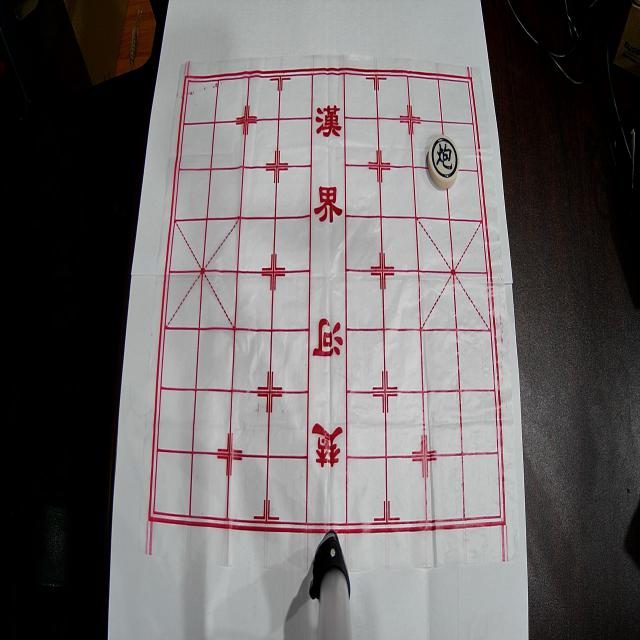black-cannon: (428, 135, 460, 189)
